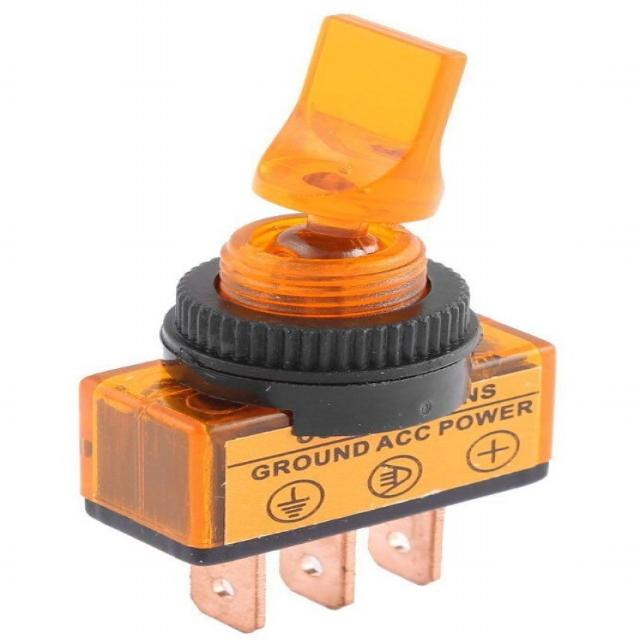toggle switch: (165, 12, 495, 383)
